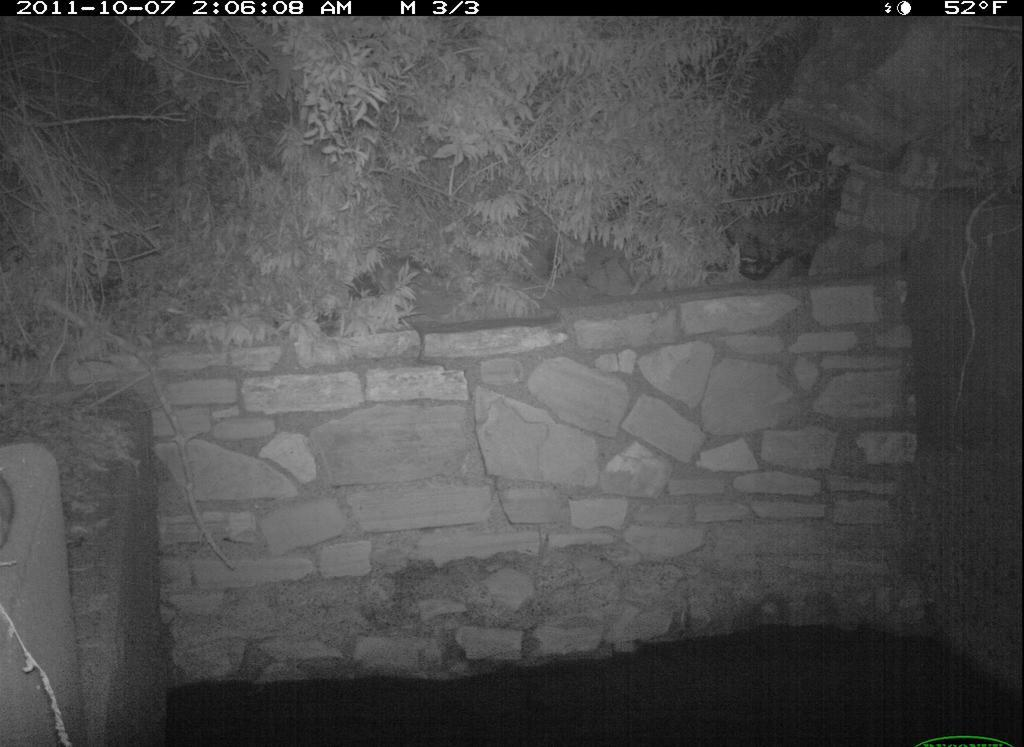rodent: (1, 461, 26, 562)
